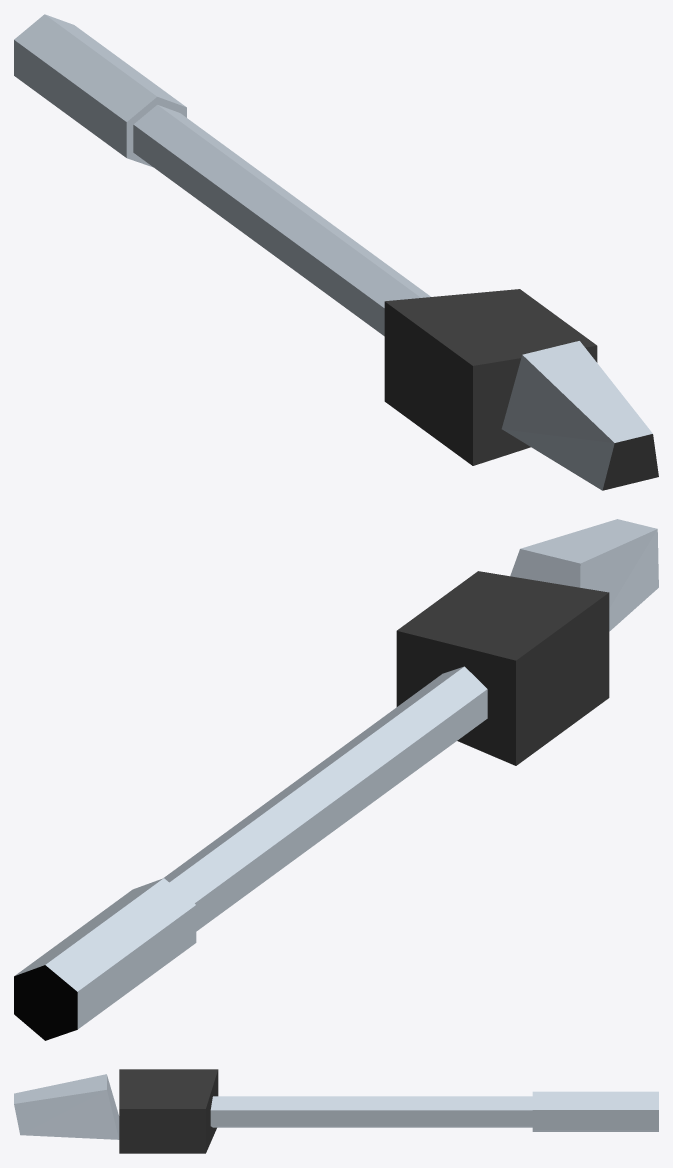
File: Wepon1.FBX
The picture shows the model from 3 angles, top to bottom: view 1: azimuth 30°, elevation 25°; view 2: azimuth 150°, elevation 25°; view 3: azimuth 270°, elevation 25°; orthographic projection. The views are drawn at different scales.
Parts seen in each view (by area): view 1: VIFS001, VIFS002; view 2: VIFS001, VIFS002, VIFS003; view 3: VIFS001, VIFS002.
Part boxes in pixels (x1,y1,x2,y2): VIFS001: [14, 14, 652, 490]; VIFS002: [384, 289, 658, 490]; VIFS001: [15, 519, 658, 1029]; VIFS002: [396, 571, 609, 765]; VIFS003: [14, 965, 77, 1040]; VIFS001: [14, 1074, 658, 1139]; VIFS002: [119, 1069, 218, 1153].
Bounding box in the file's own units: 0.13 × 0.11 × 1.04.
